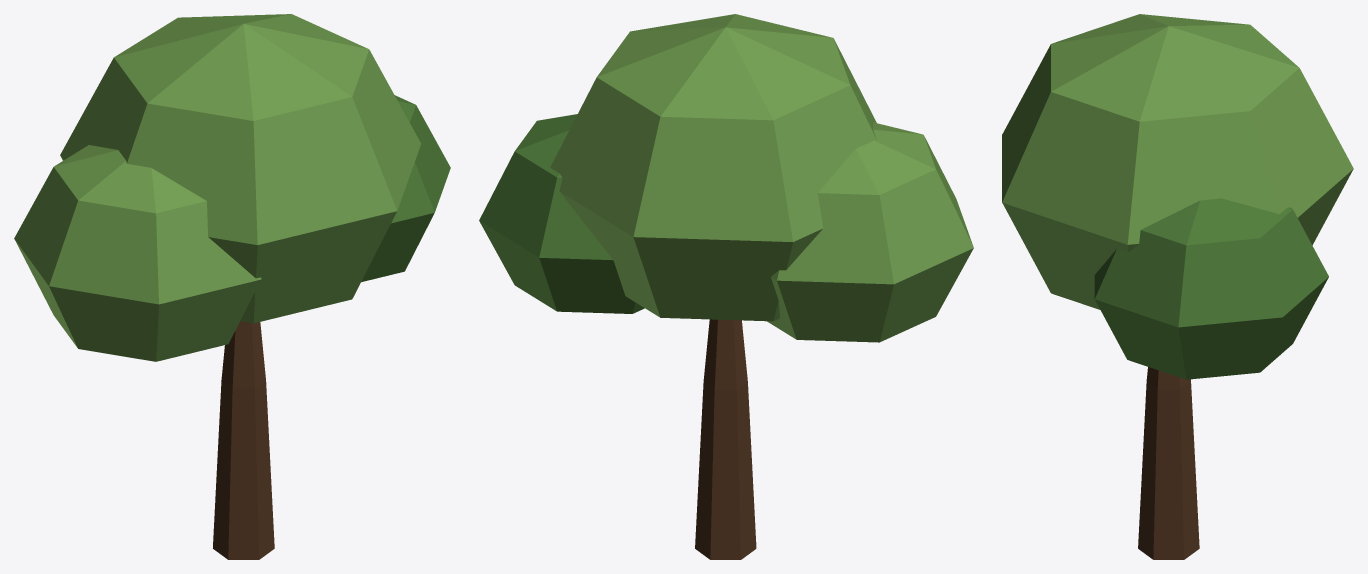
File: nature_zelkova_b.glb
3 views of the same model, side by side, from view 1: azimuth 30°, elevation 25°; view 2: azimuth 150°, elevation 25°; view 3: azimuth 270°, elevation 25° (orthographic).
Visible parts, largest first — view 1: nature_zelkova_b; view 2: nature_zelkova_b; view 3: nature_zelkova_b.
Boxes of the visible parts, x1,y1,x2,y2 form: nature_zelkova_b: [14, 14, 450, 559]; nature_zelkova_b: [479, 14, 973, 559]; nature_zelkova_b: [1002, 14, 1353, 559].
Size of the model in its own units: 4.05 by 4.68 by 2.85.
